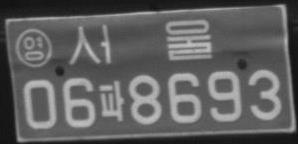0: (22, 78, 57, 130)
3: (248, 68, 282, 122)
6: (167, 72, 201, 124), (62, 77, 96, 128)
8: (128, 73, 162, 126)
9: (207, 69, 241, 123)
서울_D: (67, 18, 212, 65)
영: (15, 27, 51, 68)
파: (99, 80, 124, 122)
